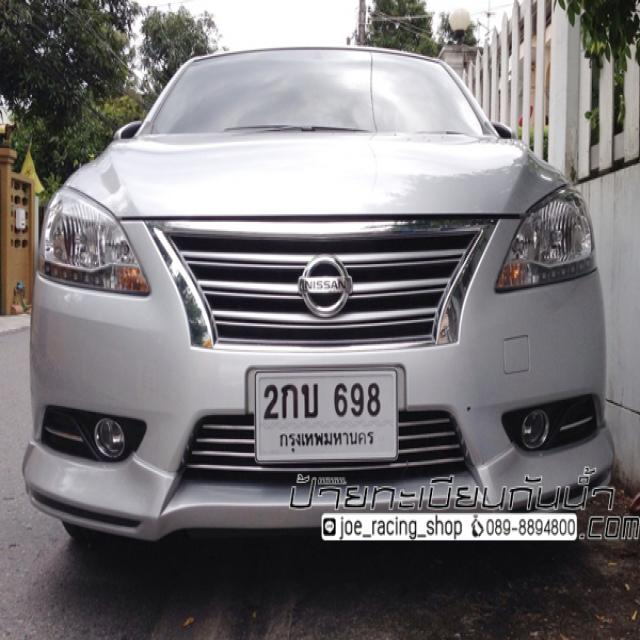license_plate: (254, 368, 400, 463)
